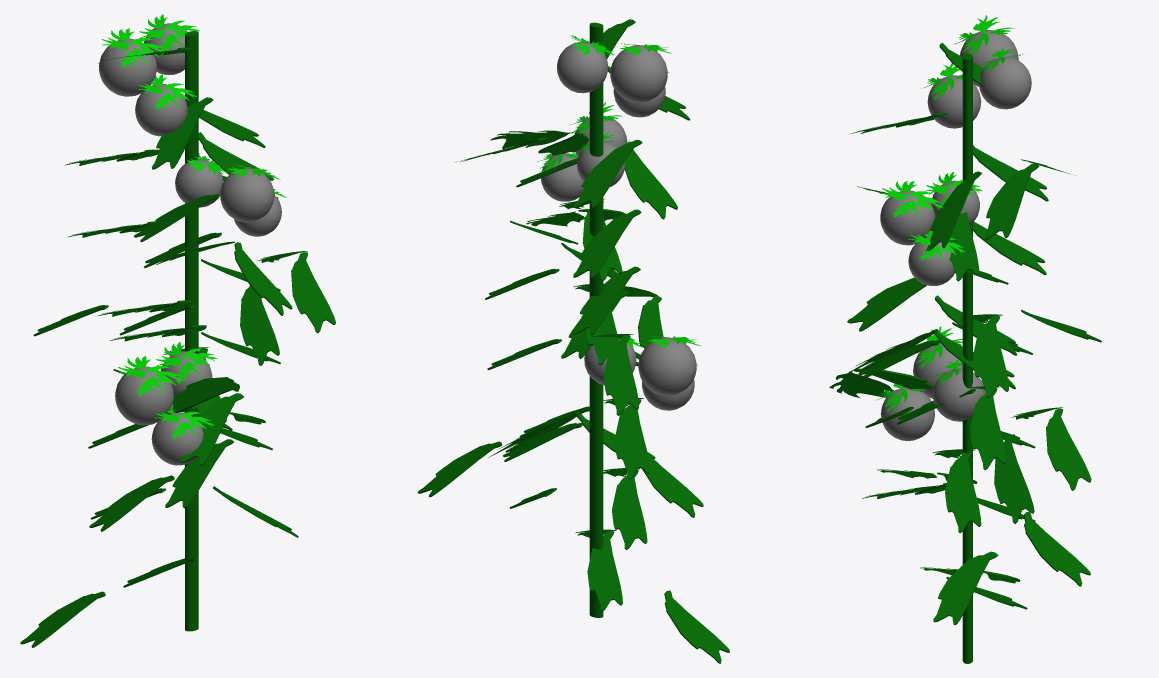
Rendered from tomatoplant.gltf.
3 views of the same model, side by side, from view 1: azimuth 30°, elevation 25°; view 2: azimuth 150°, elevation 25°; view 3: azimuth 270°, elevation 25° (orthographic). The views are drawn at different scales.
Size of the model in its own units: 0.7446 by 1.29 by 0.6918.
